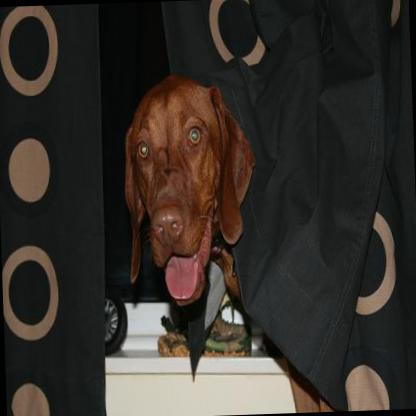vizsla: (119, 74, 259, 308)
